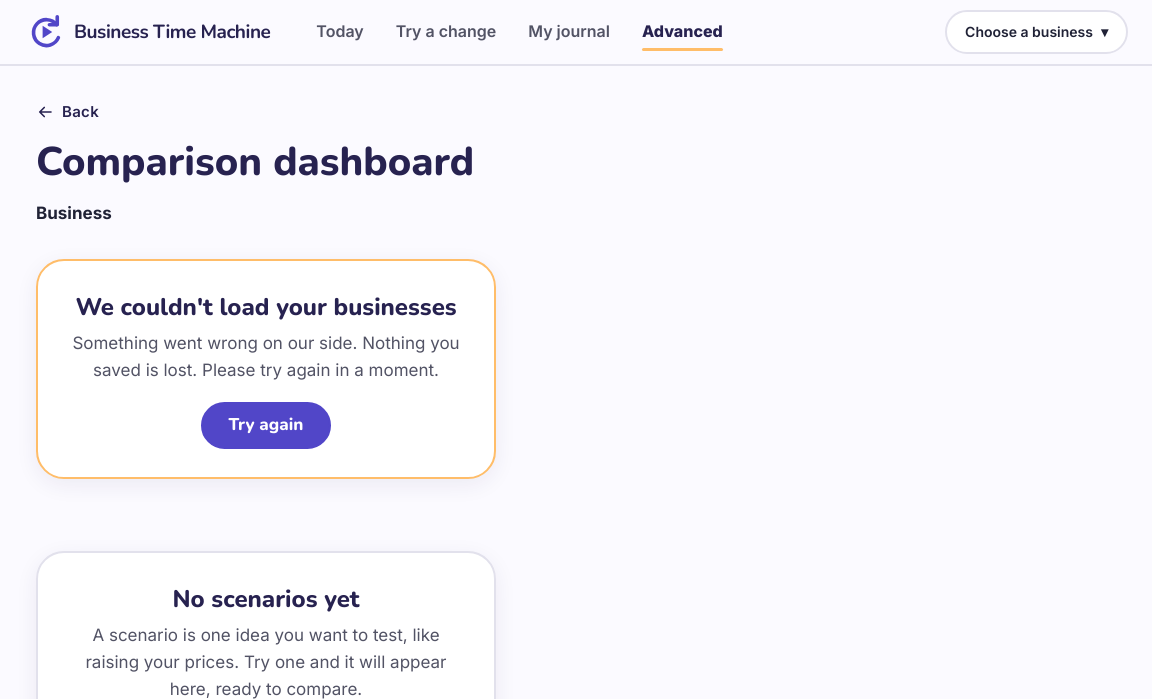
Scenario: failed loads: a calm message and Try again, never a raw error or a blank page › the list of businesses fails, then Try again works
Expected: the message shows "We couldn't load your businesses", [75, 291, 457, 323]
Click the button "Try again": (266, 426) [201, 402, 331, 449]
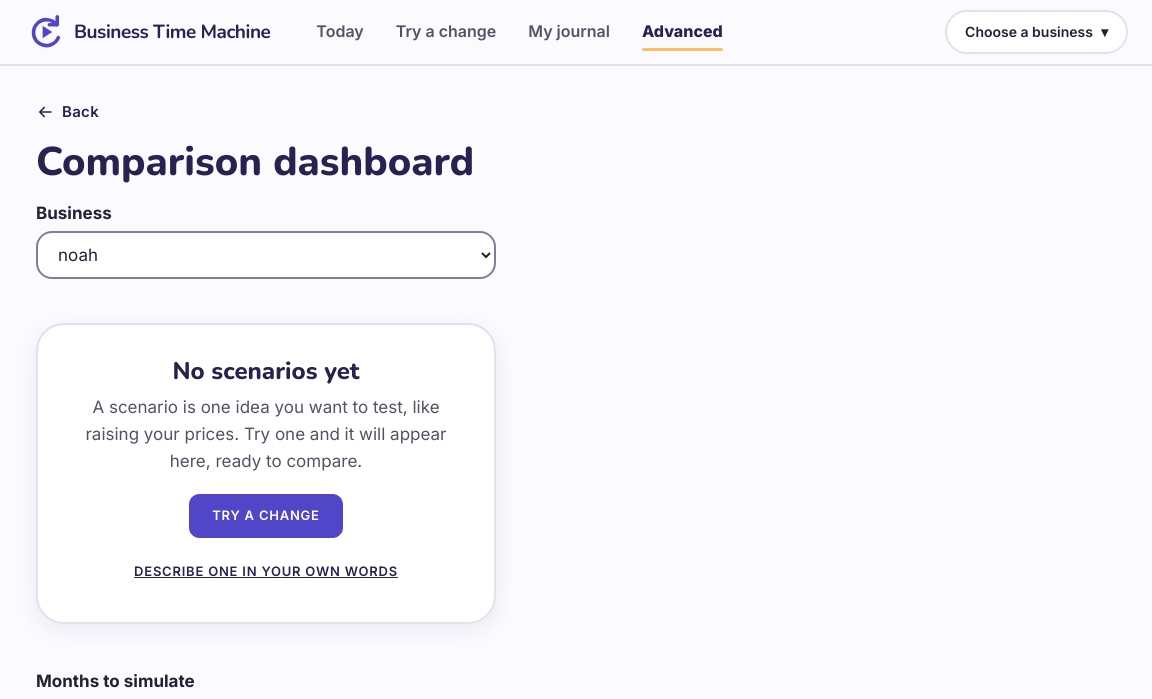
Result: the heading "We couldn't load your businesses" is gone
Result: the dropdown labelled "Business" is shown at [36, 231, 496, 279]
